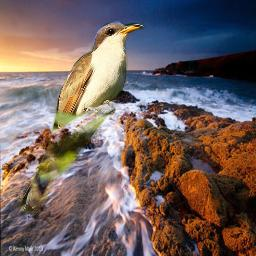Cuckoo: (16, 18, 147, 217)
